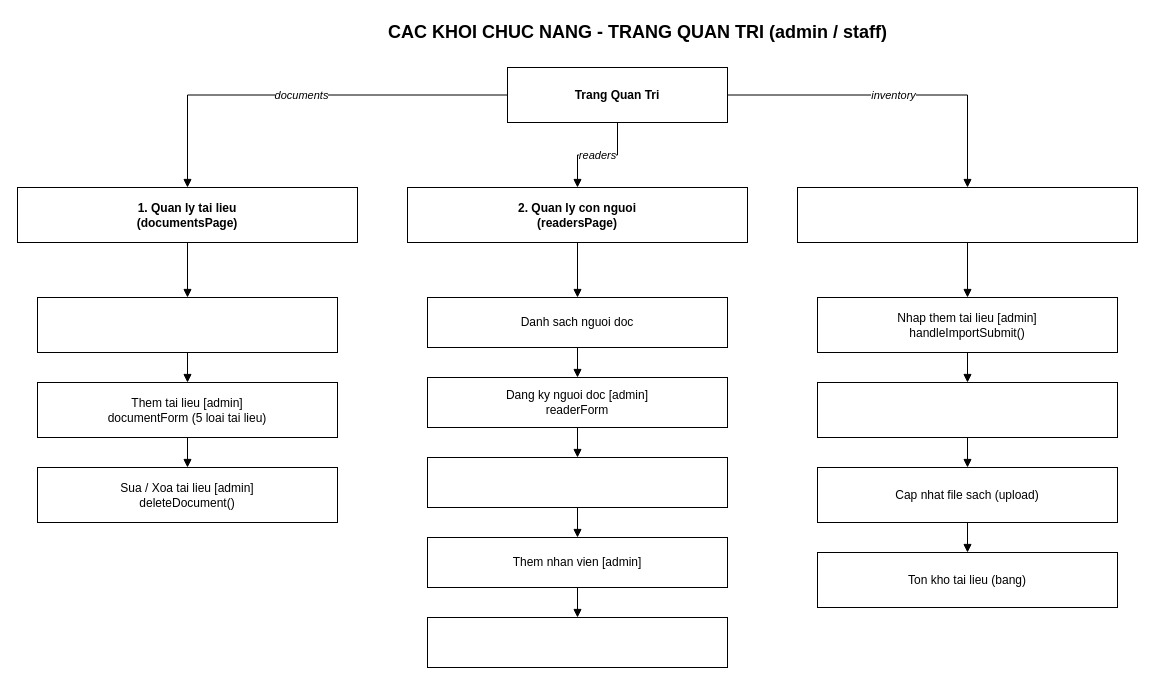
This 1155x685 diagram has some shape labels left out. Here are the shapes that lost their labels. From the top down, the centre of each, then its label:
point (967, 214): 3. Quan ly nhap / xuat (inventoryPage)
point (187, 324): Kho tai lieu (bang): tim kiem / phan trang
point (967, 410): Xuat / thanh ly tai lieu [admin]
point (577, 482): Tat ca nguoi trong he thong [admin]
point (577, 642): Them quan tri vien [admin]
